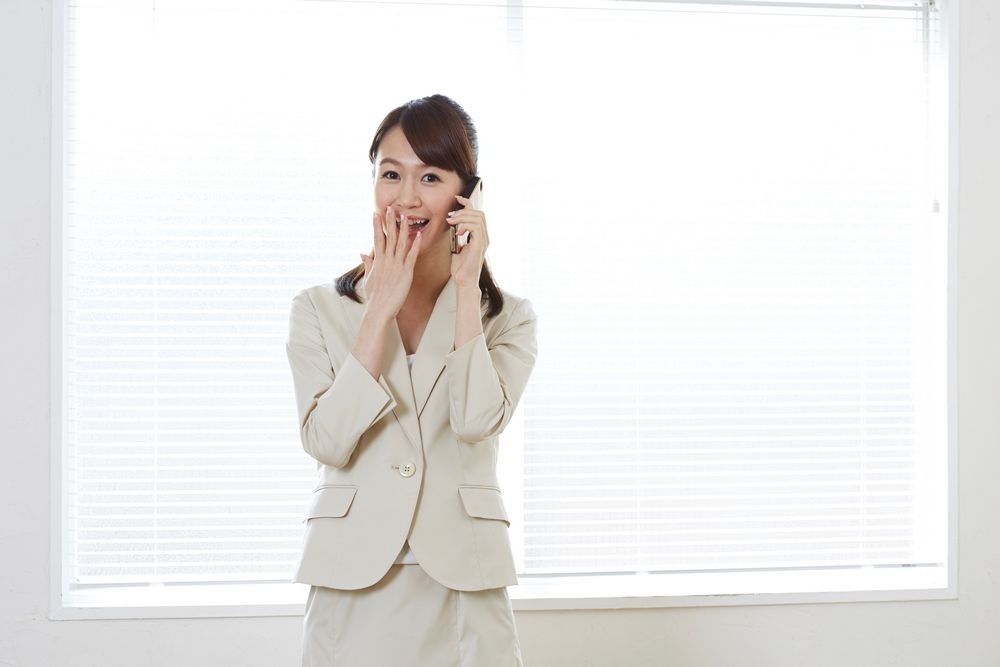phone: (440, 172, 491, 260)
talk: (375, 153, 491, 283)
